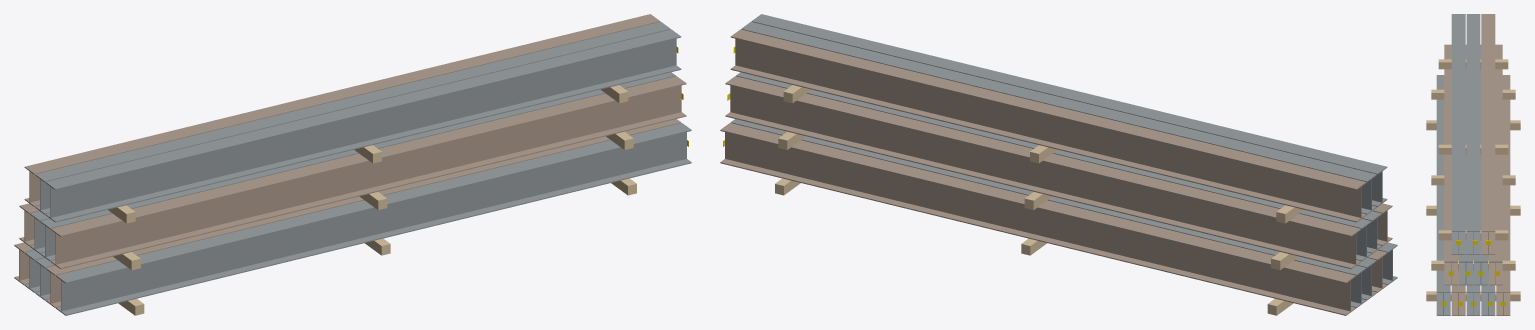
File: steel-beam-bundle-w12.glb
3 renders of one model, left to right at view 1: azimuth 30°, elevation 25°; view 2: azimuth 150°, elevation 25°; view 3: azimuth 270°, elevation 25°, orthographic. The views are drawn at different scales.
Parts seen in each view (by area): view 1: beam_1_1, beam_1_2, dunnage; view 2: beam_1_2, beam_1_1, dunnage; view 3: beam_1_1, beam_1_2, dunnage, paint_marks.
Part boxes in pixels (x1=…): beam_1_1: x1=24, y1=21, x2=691, y2=315; beam_1_2: x1=14, y1=14, x2=686, y2=308; dunnage: x1=108, y1=85, x2=636, y2=315; beam_1_2: x1=720, y1=29, x2=1392, y2=315; beam_1_1: x1=730, y1=14, x2=1397, y2=308; dunnage: x1=775, y1=85, x2=1303, y2=315; beam_1_1: x1=1436, y1=14, x2=1495, y2=315; beam_1_2: x1=1444, y1=14, x2=1510, y2=315; dunnage: x1=1426, y1=59, x2=1520, y2=301; paint_marks: x1=1441, y1=240, x2=1505, y2=305.
Size of the model in its own units: 6.1 by 1.2 by 1.12.
